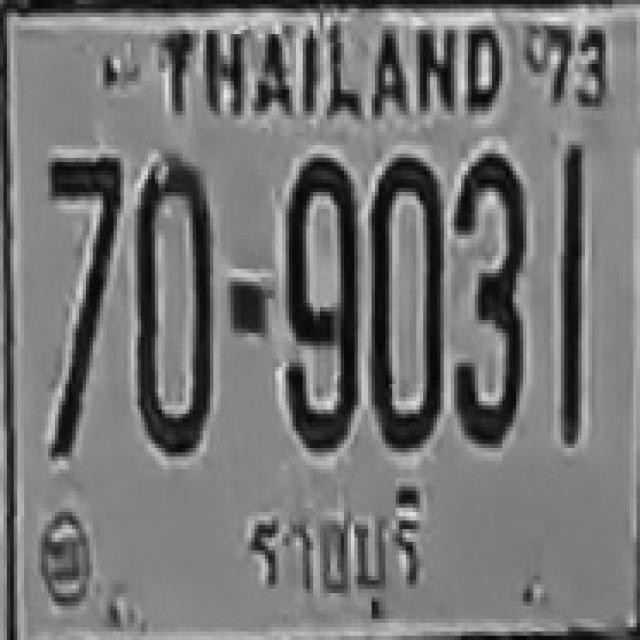0: (134, 154, 213, 456), (368, 154, 441, 448), (285, 154, 358, 337)
3: (451, 152, 523, 442)
7: (48, 153, 121, 350)
9: (282, 160, 358, 450)
Ratchaburi: (242, 479, 425, 628)
